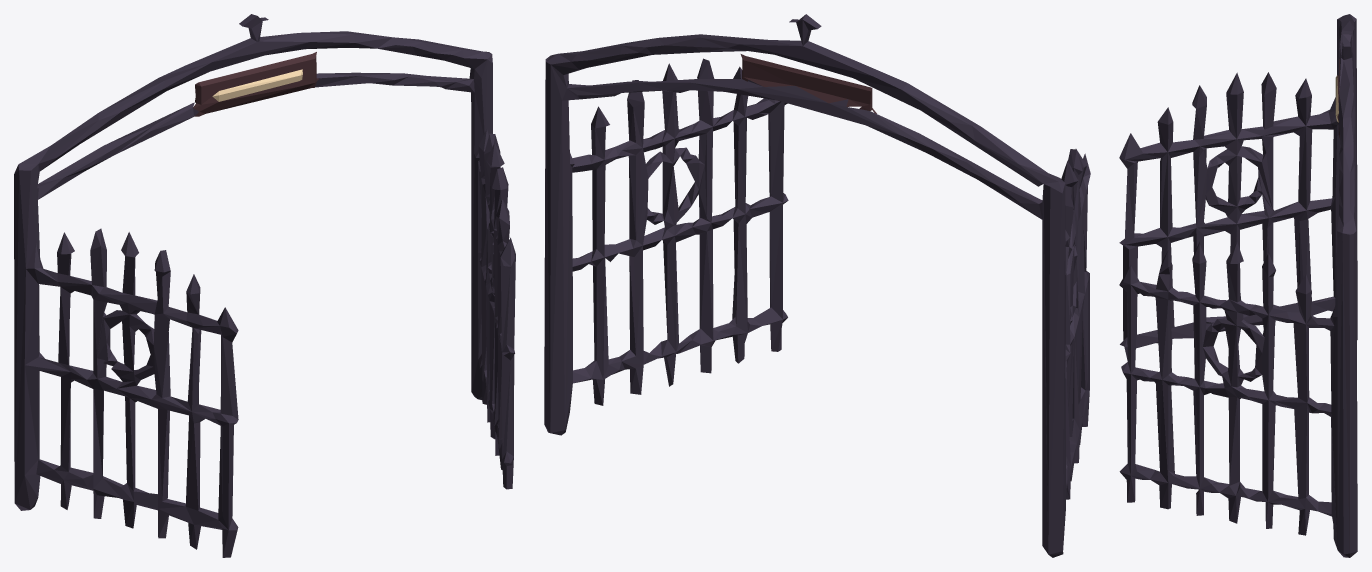
Rendered from gate.glb.
3 renders of one model, left to right at view 1: azimuth 30°, elevation 25°; view 2: azimuth 150°, elevation 25°; view 3: azimuth 270°, elevation 25°, orthographic. The views are drawn at different scales.
Visible parts, largest first — view 1: gate; view 2: gate; view 3: gate.
Part boxes in pixels (x1=…): gate: x1=14, y1=14, x2=515, y2=557; gate: x1=544, y1=14, x2=1090, y2=557; gate: x1=1119, y1=14, x2=1357, y2=557.
Size of the model in its own units: 3.33 by 2.95 by 1.52.
